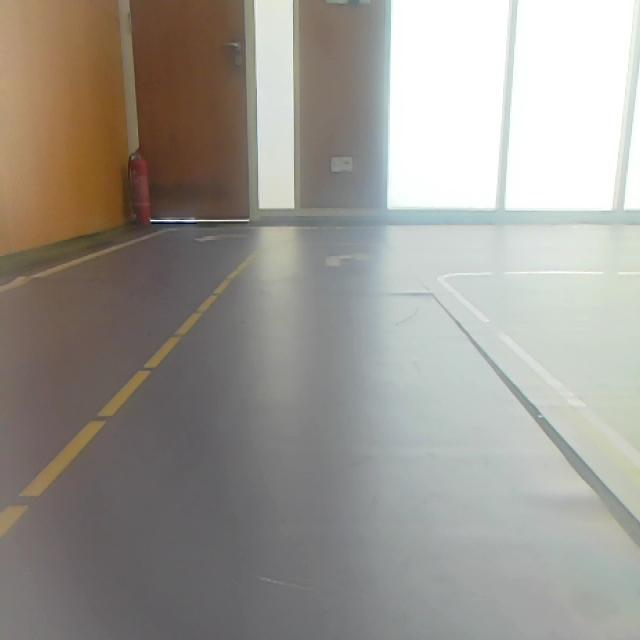left_lane: (0, 253, 255, 540)
right_lane: (441, 280, 640, 487)
